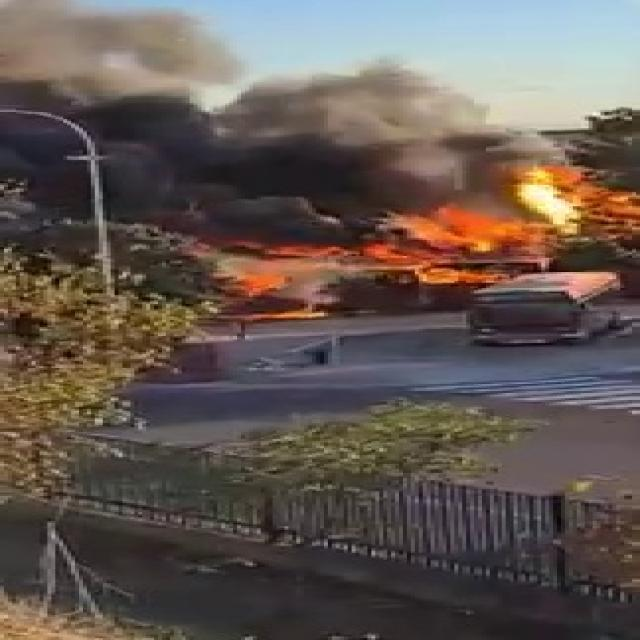Fire: (179, 216, 506, 315), (492, 156, 627, 258)
Smoke: (0, 10, 286, 219), (325, 70, 526, 203)
